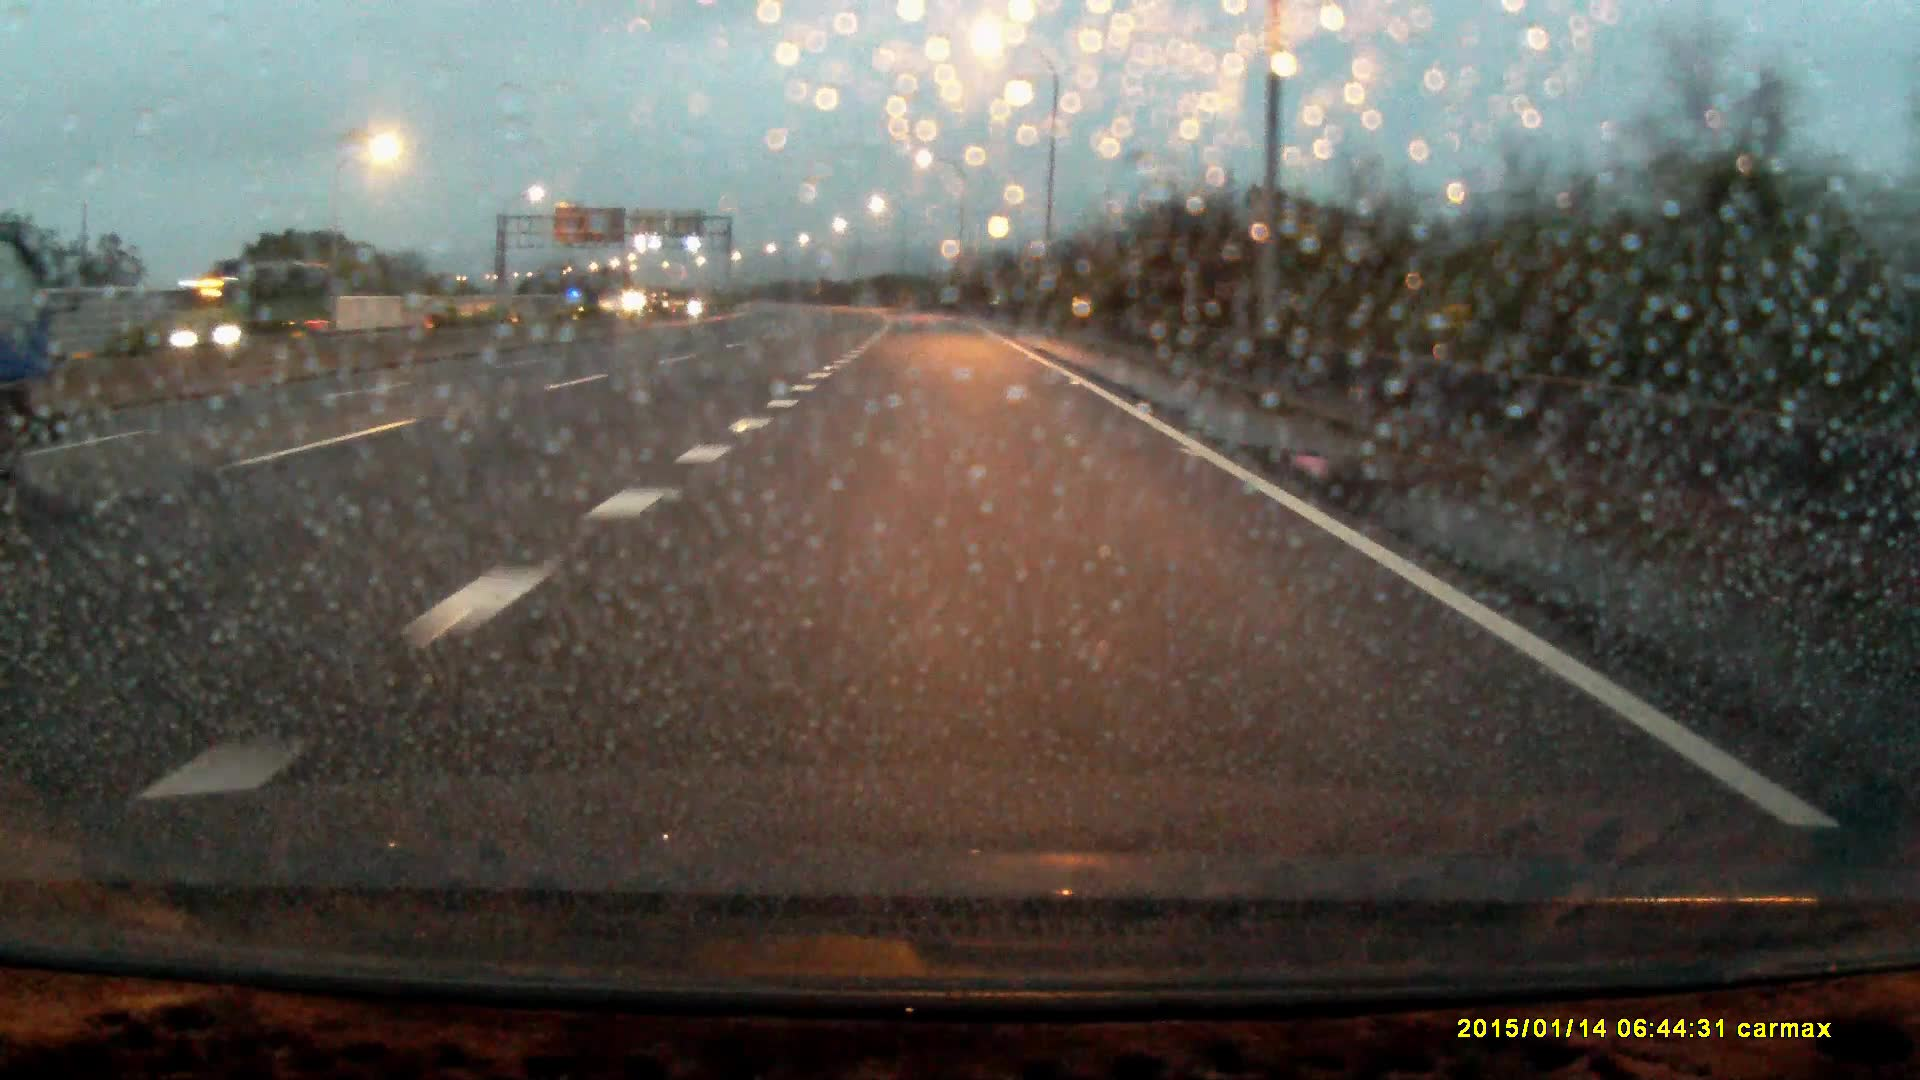vehicle: (189, 270, 330, 347)
